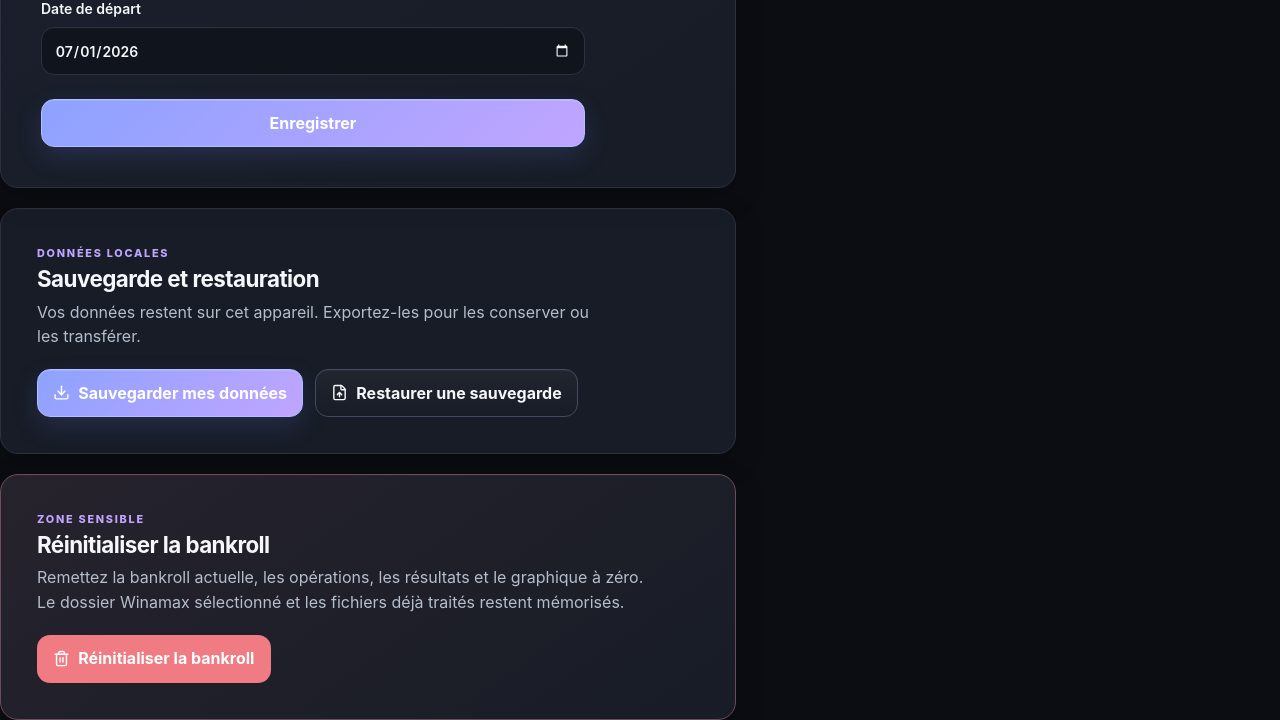
Scenario: SettingsPage bankroll reset › requires explicit confirmation before resetting and refreshes the application
(page scrolled)
Click the button "Réinitialiser la bankroll". click: (154,659)
box: [37,635,271,683]
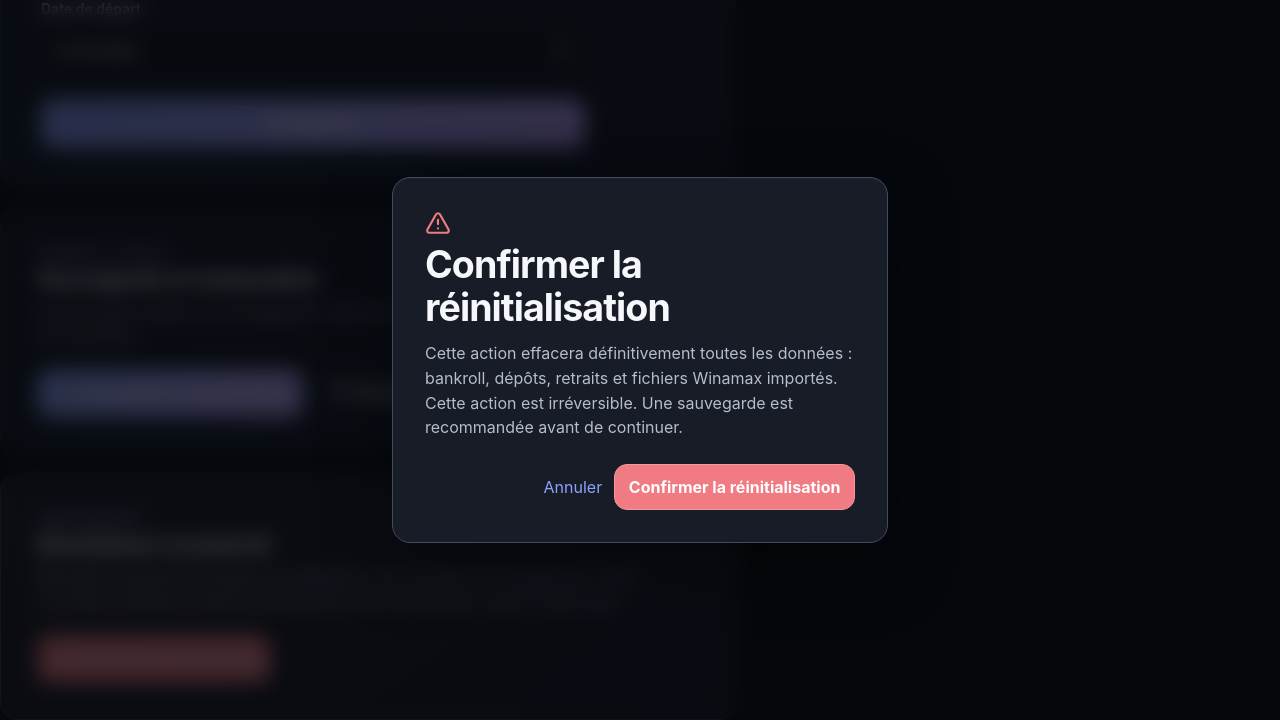
Expected: the dialog "Confirmer la réinitialisation" is shown, [392,177,888,543]
Click the button "Confirmer la réinitialisation". click: (735,487)
box: [614,464,855,510]
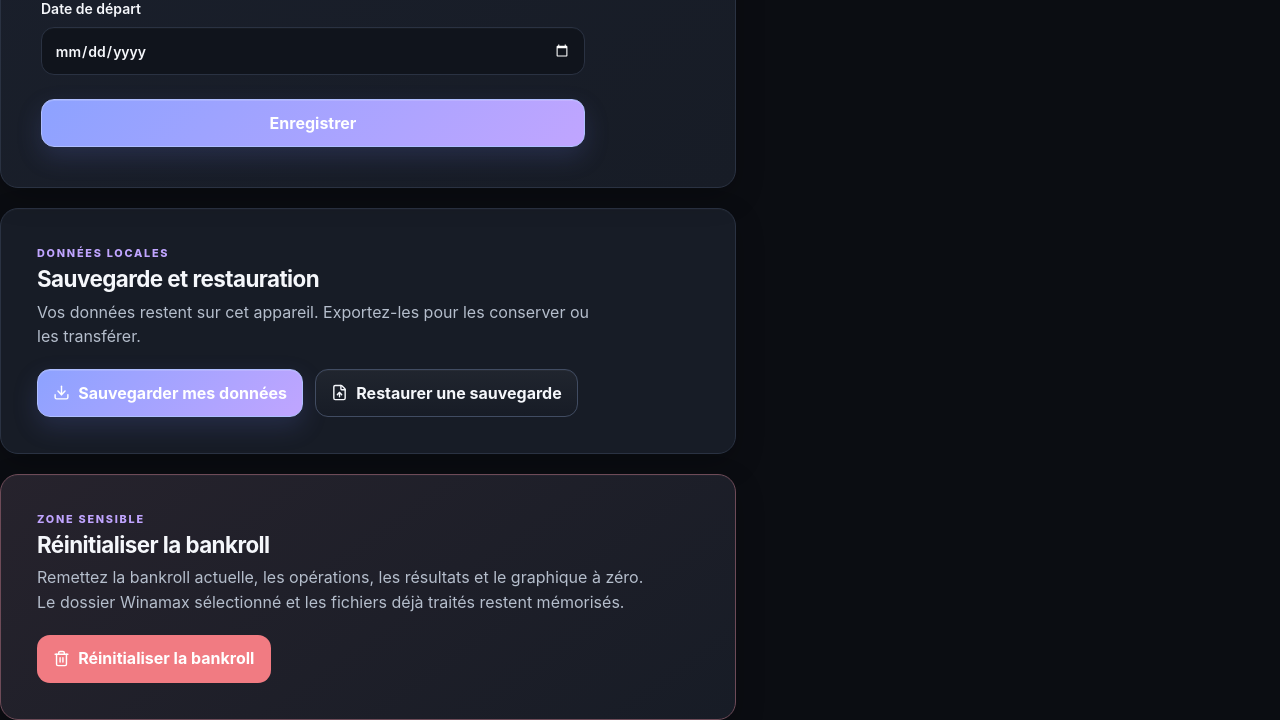
Expected: the heading "Confirmer la réinitialisation" is gone
